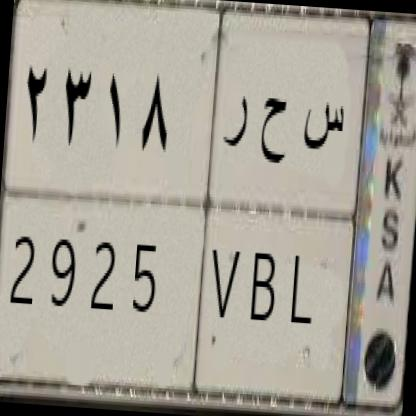english: (0, 163, 378, 416)
